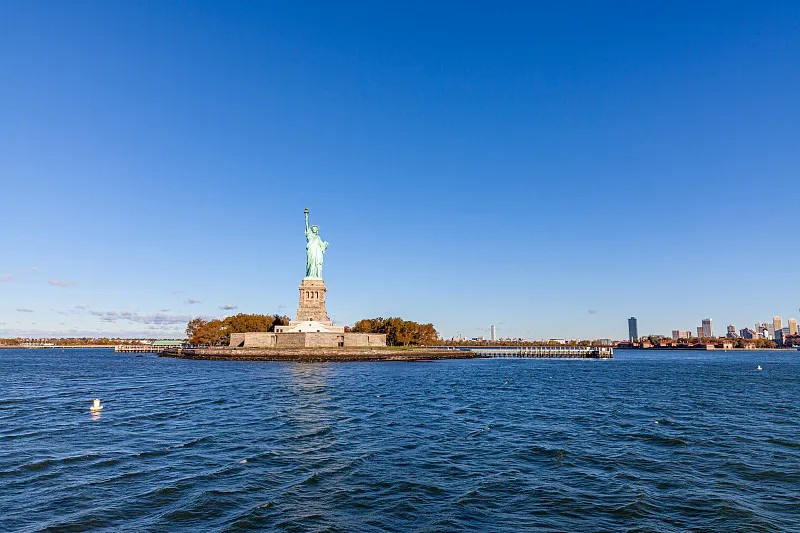SL: (294, 206, 331, 320)
